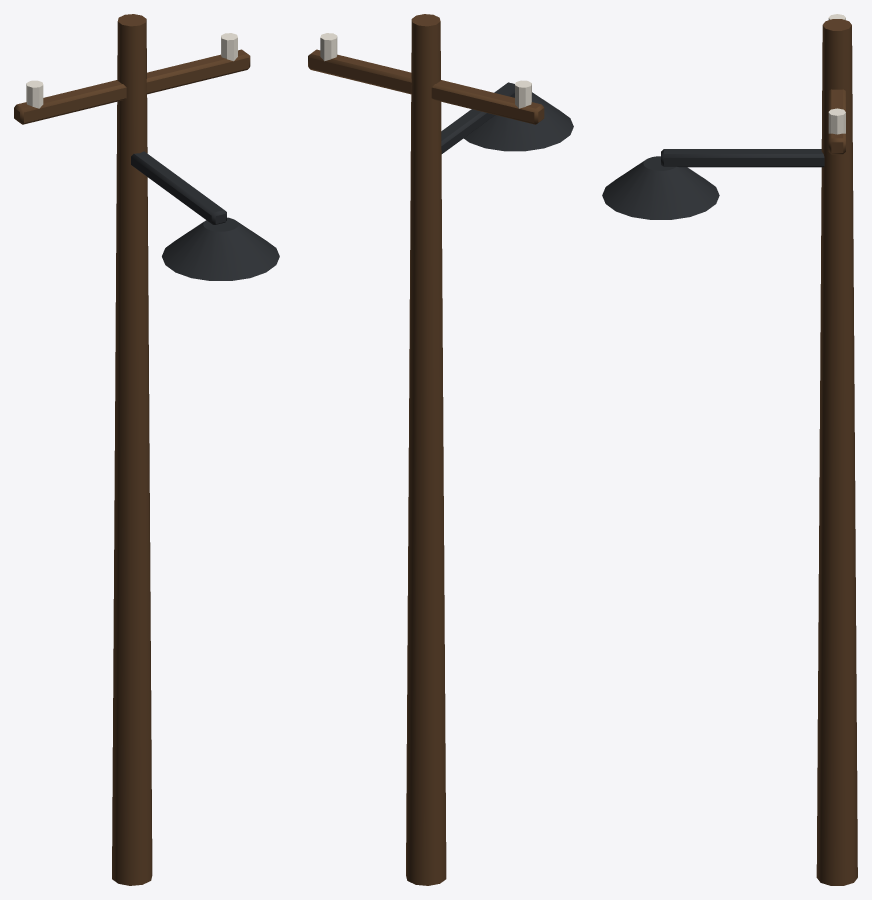
The model's file is poste_luz.glb.
3 views of the same model, side by side, from view 1: azimuth 30°, elevation 25°; view 2: azimuth 150°, elevation 25°; view 3: azimuth 270°, elevation 25° (orthographic).
Parts seen in each view (by area): view 1: poste_luz; view 2: poste_luz; view 3: poste_luz.
Boxes of the visible parts, x1,y1,x2,y2 form: poste_luz: (14, 14, 279, 885); poste_luz: (308, 14, 573, 885); poste_luz: (602, 14, 857, 885).
Size of the model in its own units: 0.9 by 3.2 by 0.87.
